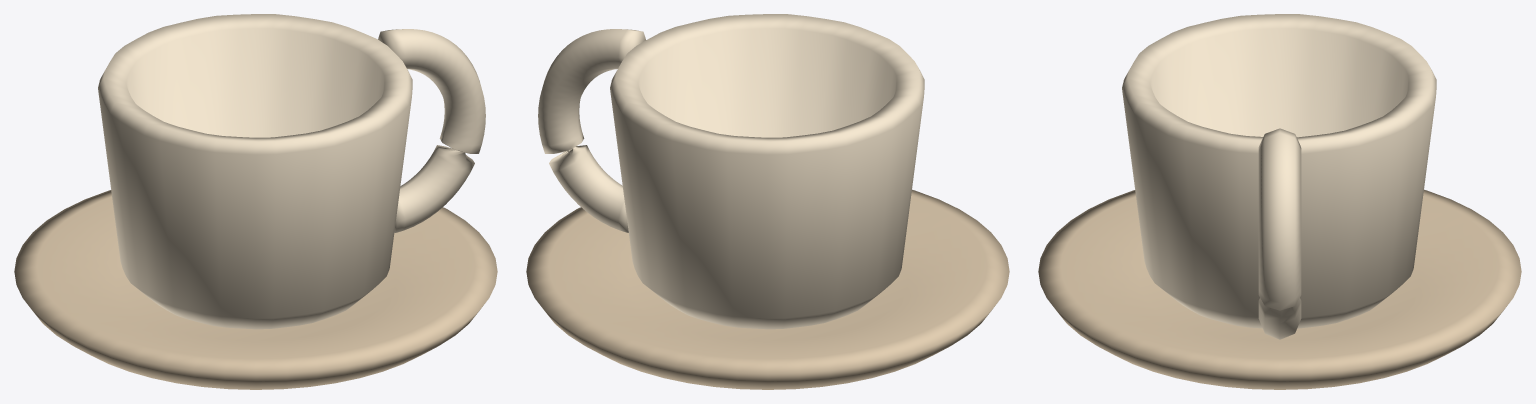
The model's file is gift-21.b0649b50decf-B8HTzHWz.glb.
The picture shows the model from 3 angles, left to right: view 1: azimuth 30°, elevation 25°; view 2: azimuth 150°, elevation 25°; view 3: azimuth 270°, elevation 25°; orthographic projection.
Parts seen in each view (by area): view 1: PART_PIVOT_cup_MAT_warm_ceramic, Thick_ceramic_saucer; view 2: PART_PIVOT_cup_MAT_warm_ceramic, Thick_ceramic_saucer; view 3: PART_PIVOT_cup_MAT_warm_ceramic, Thick_ceramic_saucer.
Part boxes in pixels (bbox=[...]): PART_PIVOT_cup_MAT_warm_ceramic: bbox=[98, 14, 485, 329]; Thick_ceramic_saucer: bbox=[14, 190, 497, 389]; PART_PIVOT_cup_MAT_warm_ceramic: bbox=[538, 14, 924, 329]; Thick_ceramic_saucer: bbox=[526, 189, 1009, 389]; PART_PIVOT_cup_MAT_warm_ceramic: bbox=[1122, 14, 1436, 339]; Thick_ceramic_saucer: bbox=[1038, 189, 1521, 389].
Bounding box in the file's own units: 0.0898 × 0.0468 × 0.086.
